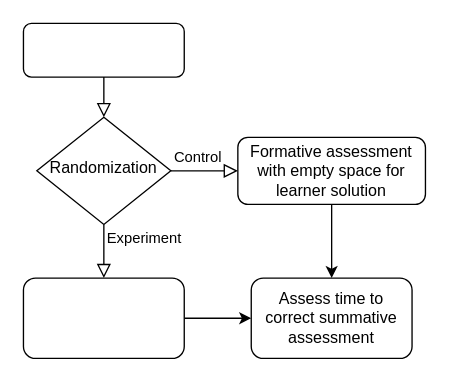
Image size: 449x382. Some labels were removed from this diagram. Each missing label, with the centre of its shape:
"Formative assessment using Parsons and faded examples" goes at pixel 103 317.
"Participant" goes at pixel 103 49.
